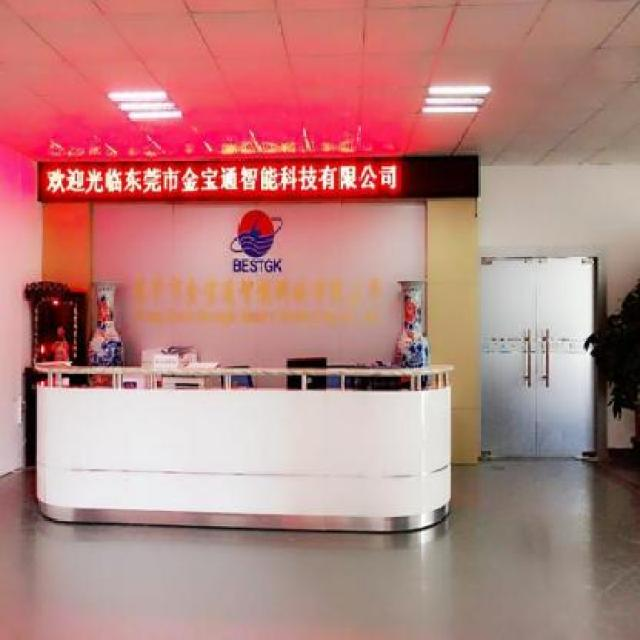frontdesk: (23, 351, 460, 527)
